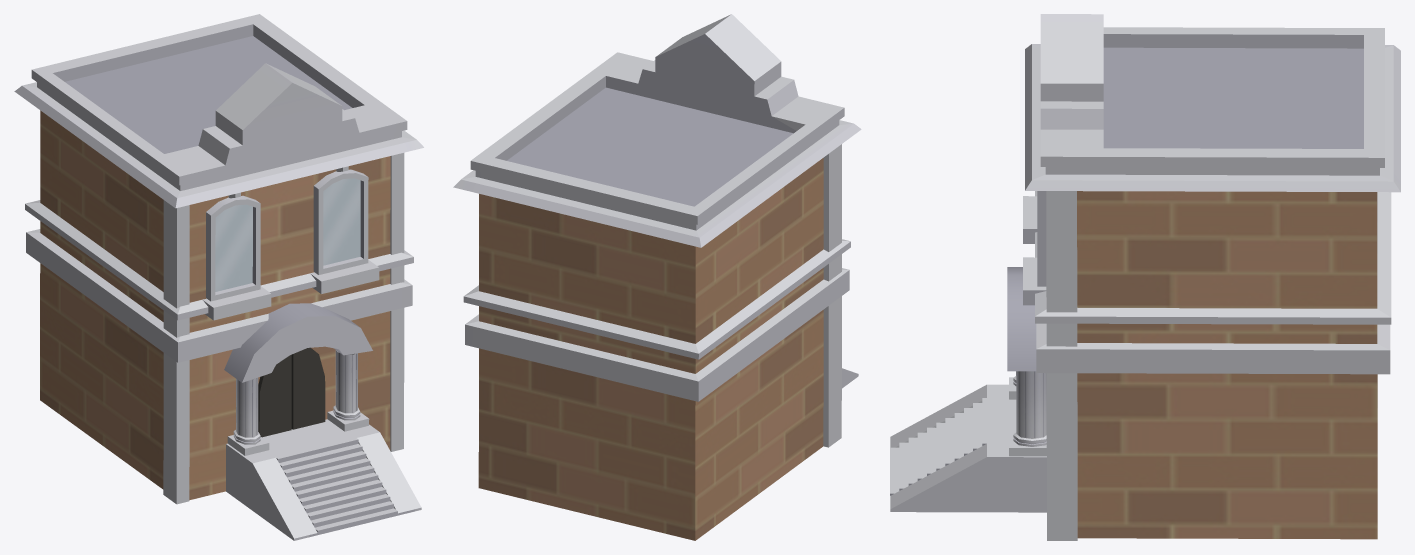
File: Building_Bank.FBX
3 views of the same model, side by side, from view 1: azimuth 30°, elevation 25°; view 2: azimuth 150°, elevation 25°; view 3: azimuth 270°, elevation 25° (orthographic). The views are drawn at different scales.
Visible parts, largest first — view 1: Box002; view 2: Box002; view 3: Box002.
Part boxes in pixels (left/top/right/bottom): Box002: left=14, top=14, right=423, bottom=540; Box002: left=453, top=14, right=861, bottom=540; Box002: left=890, top=14, right=1400, bottom=540.
Size of the model in its own units: 219 by 333 by 333.
Materials: 1 (1 with a texture image).
